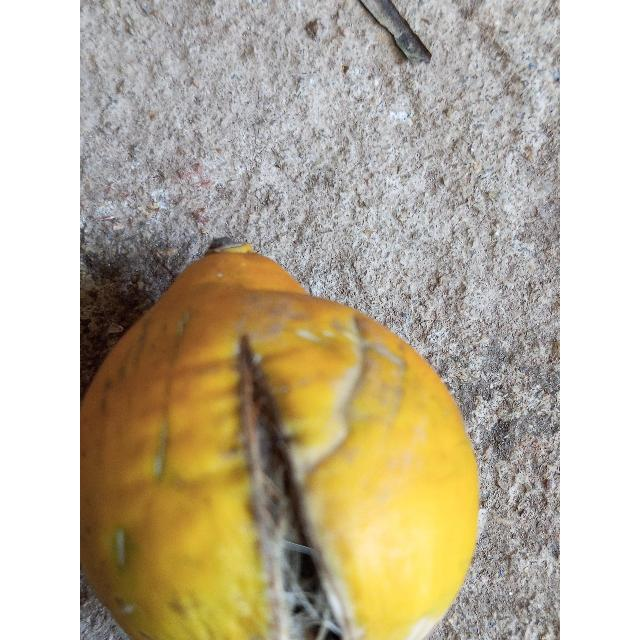damaged: (80, 245, 481, 640)
